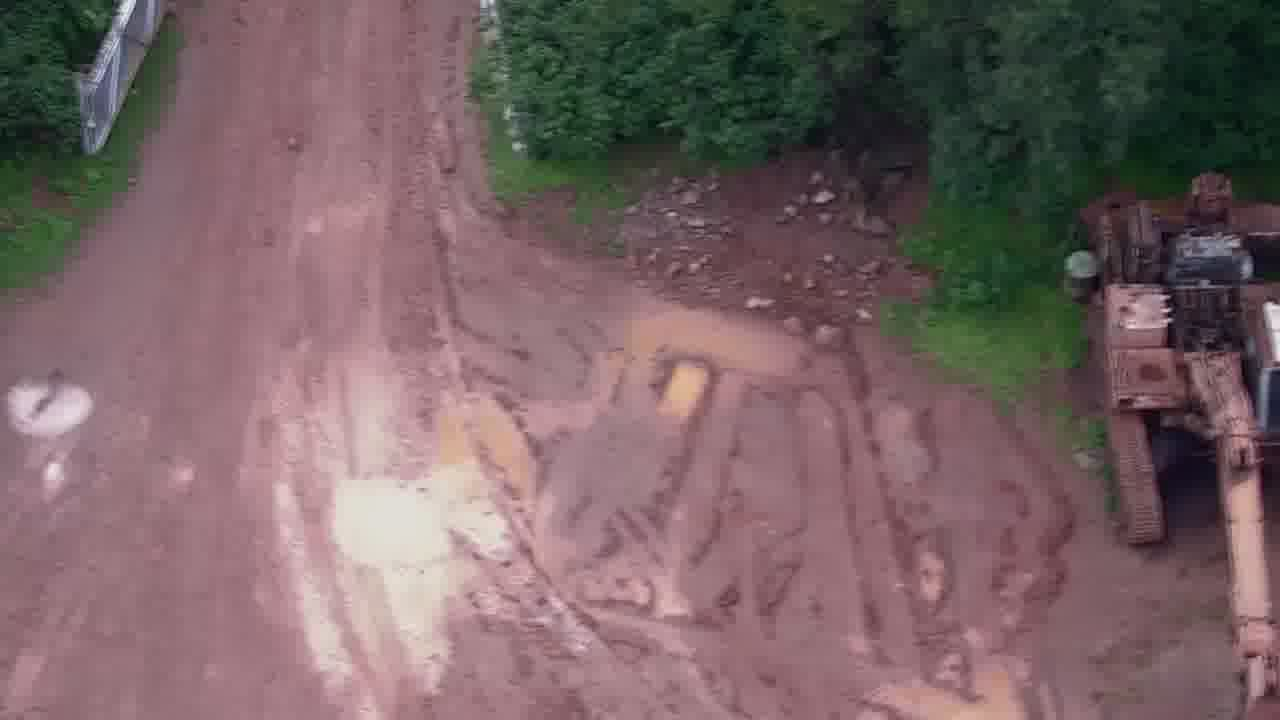HMV: (1061, 155, 1279, 716)
